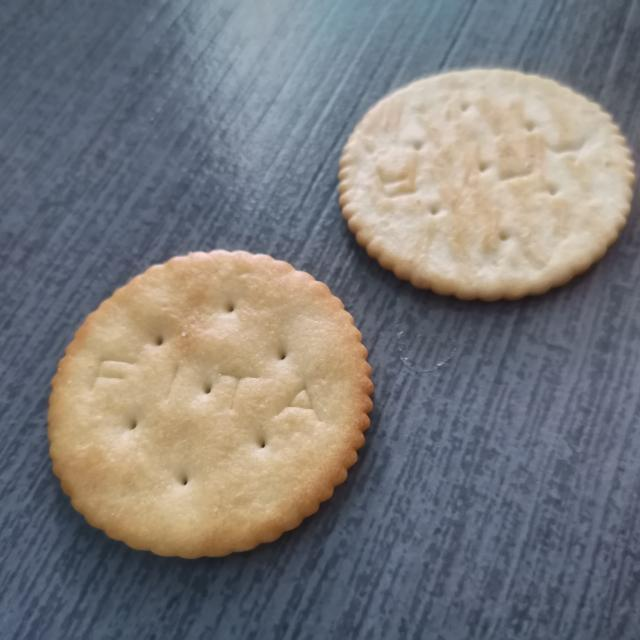Intact: (36, 243, 383, 573), (329, 57, 638, 309)
